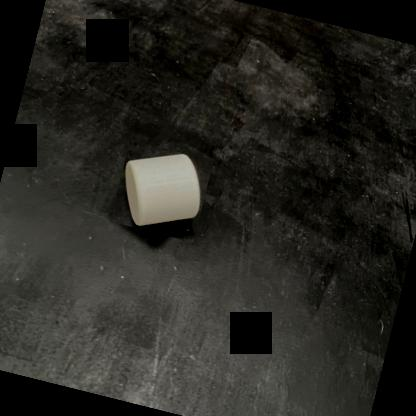white cylinder: (110, 141, 213, 243)
